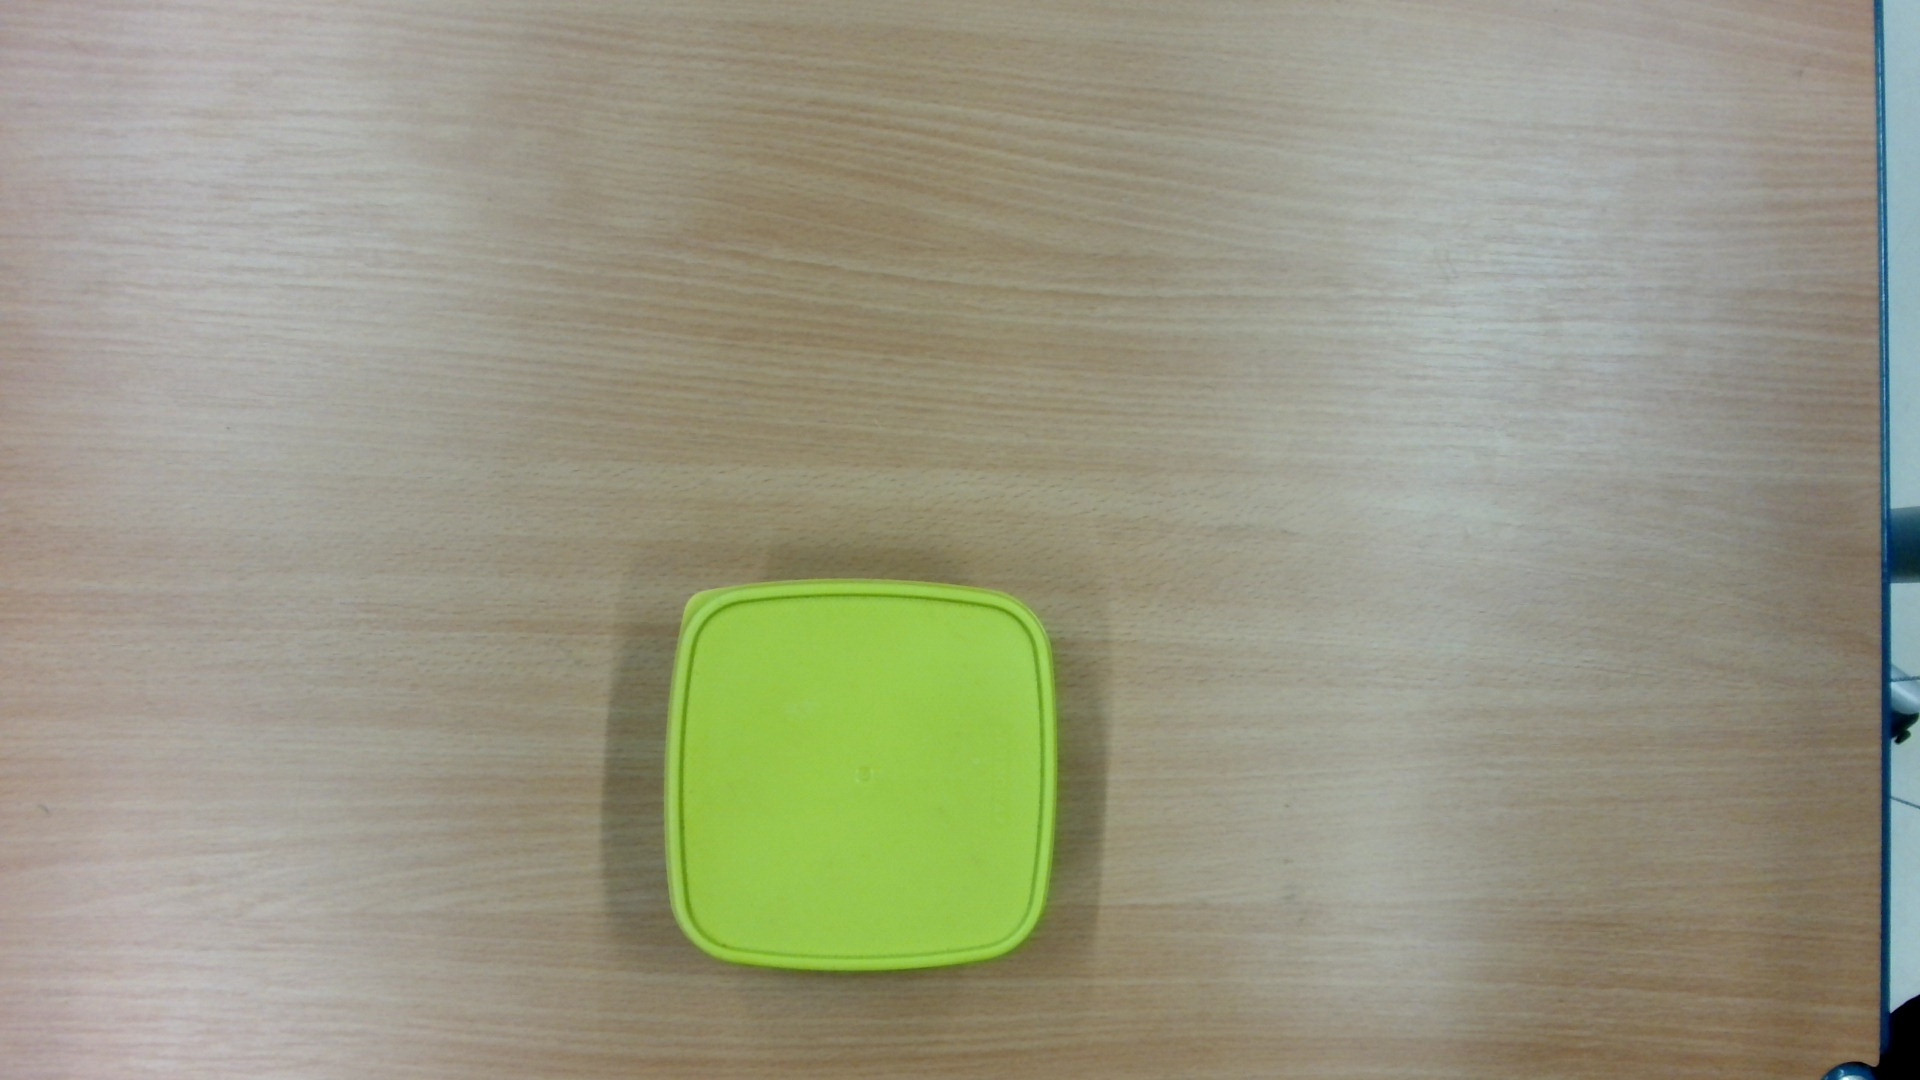Box: (653, 570, 1068, 989)
